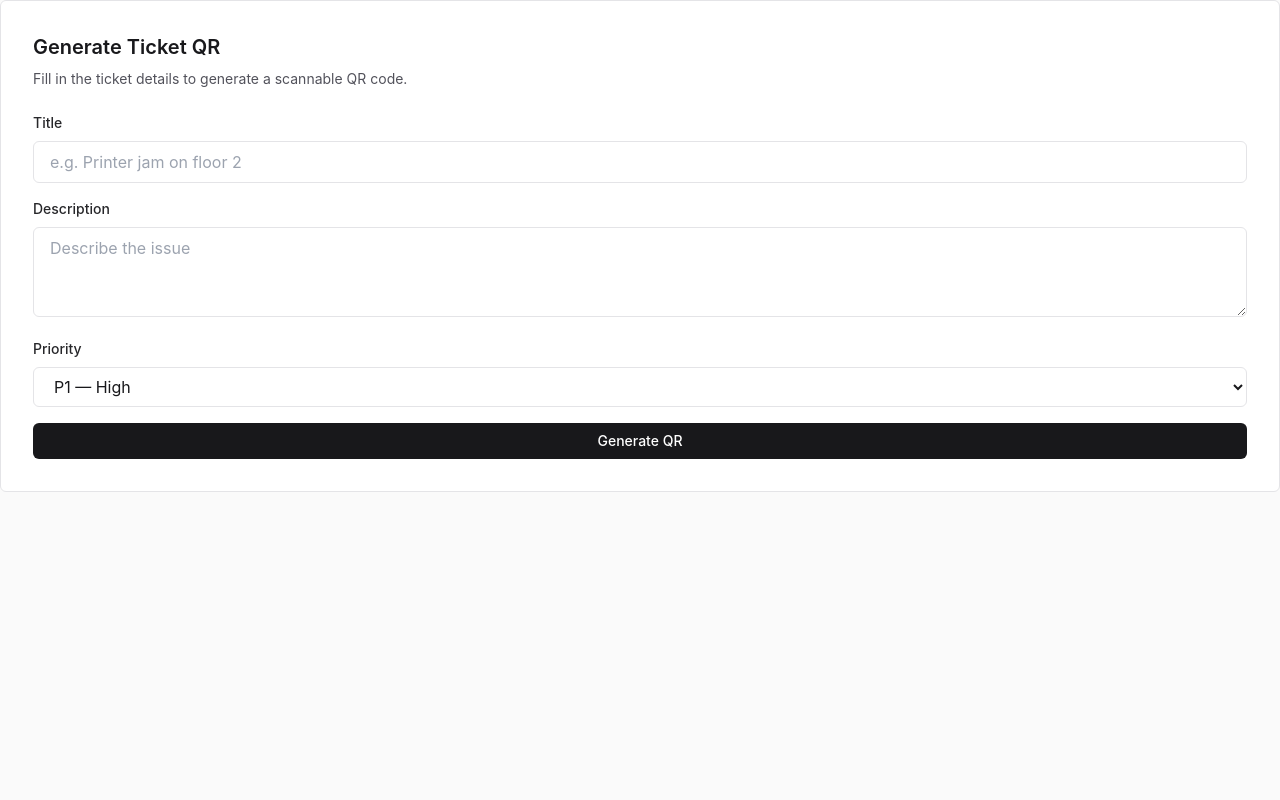
QrGenerator — Unhappy Path › shows loading spinner during async operation (AC-04)
In the field labelled "Title": (640, 162) [33, 141, 1247, 183], type "Printer jam"
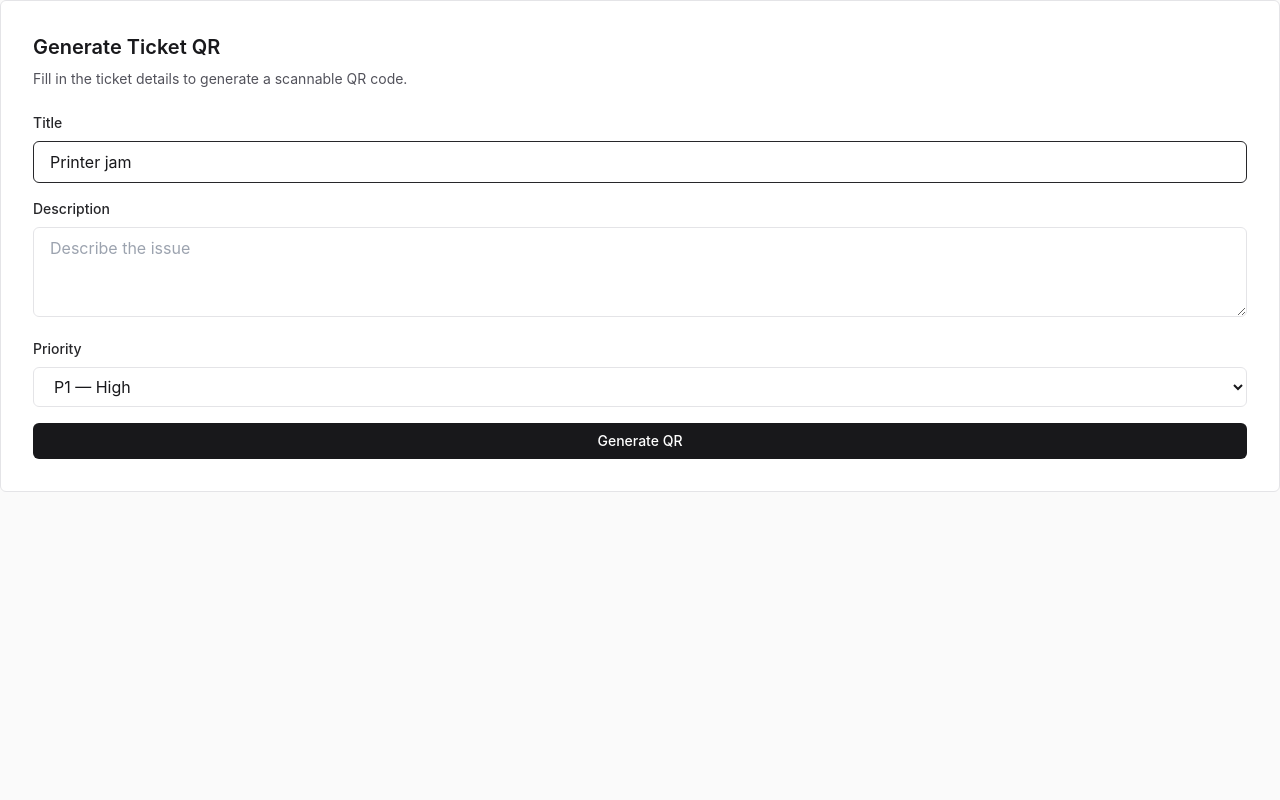
In the text box labelled "Description": (640, 272) [33, 227, 1247, 317], type "HP not responding"
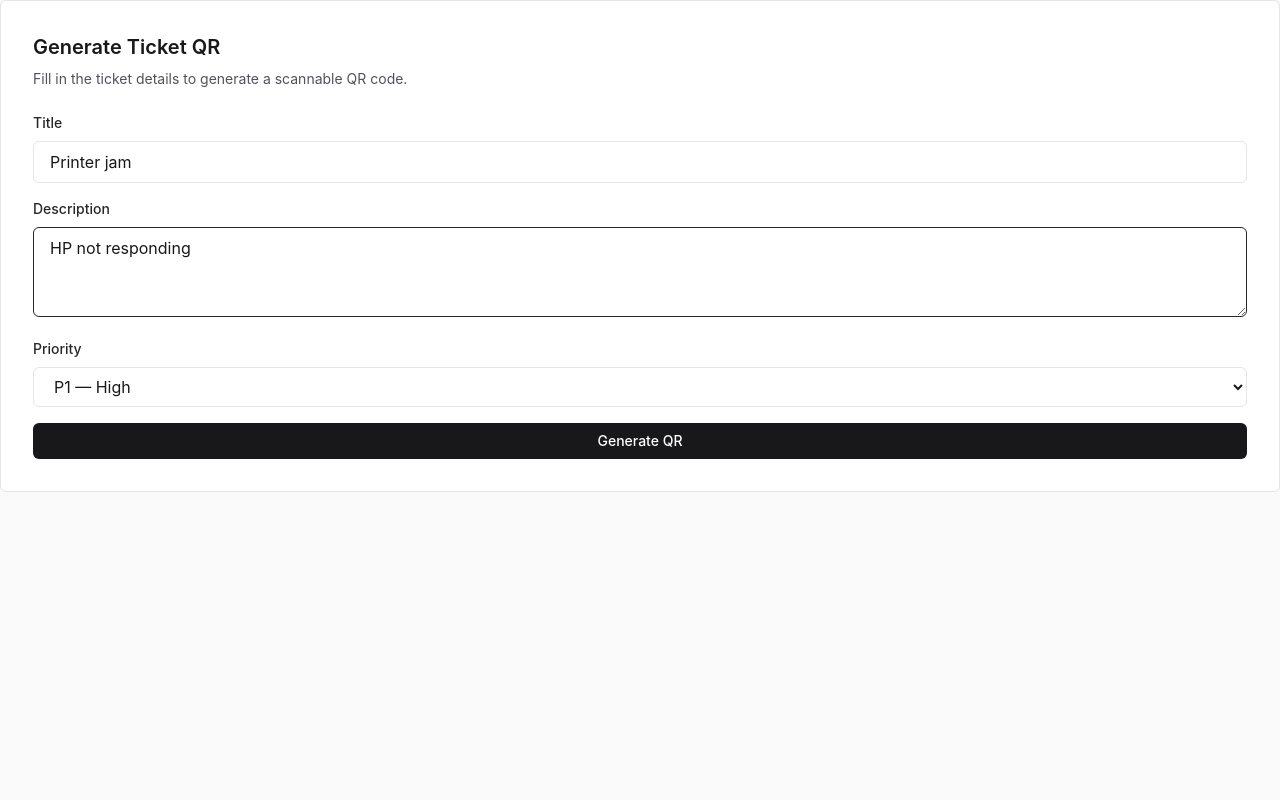
Select "P1 — High" in the dropdown labelled "Priority": (640, 387) [33, 367, 1247, 407]
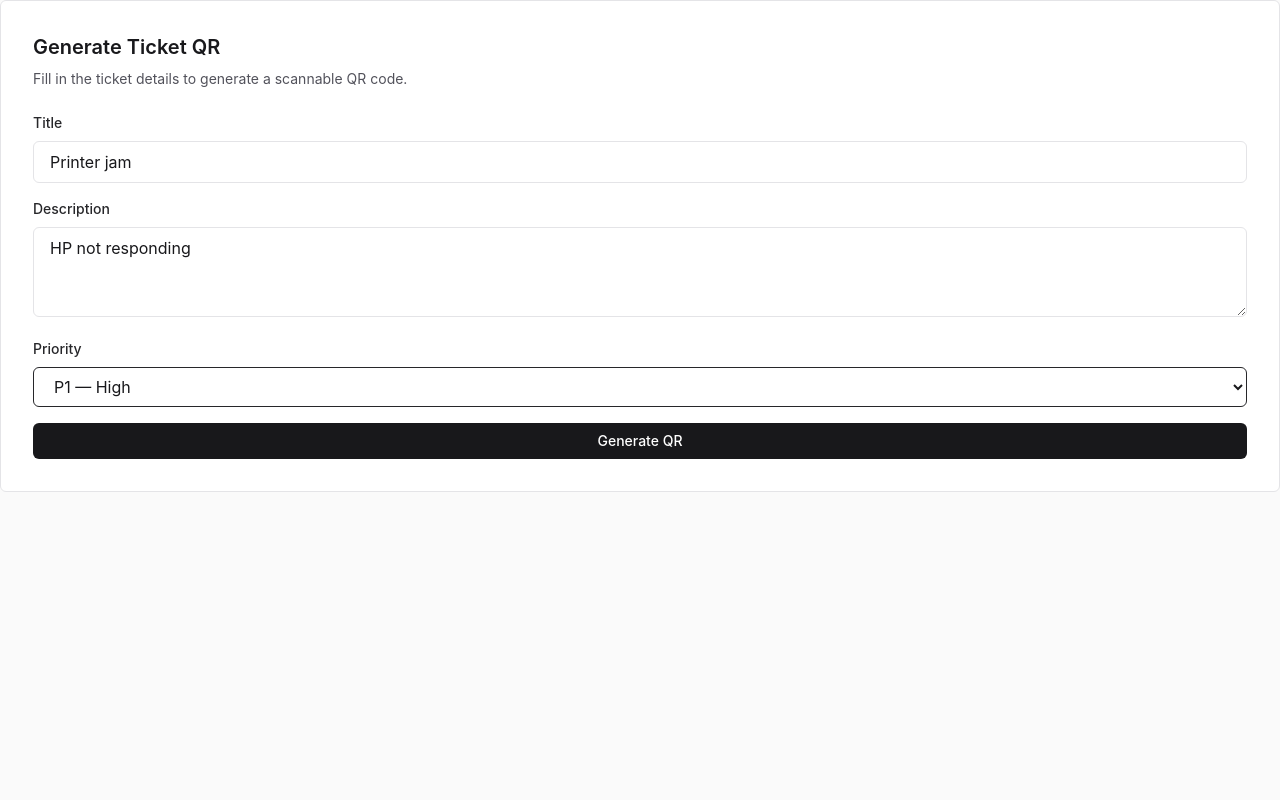
Click the button "Generate QR": (640, 441) [33, 423, 1247, 459]
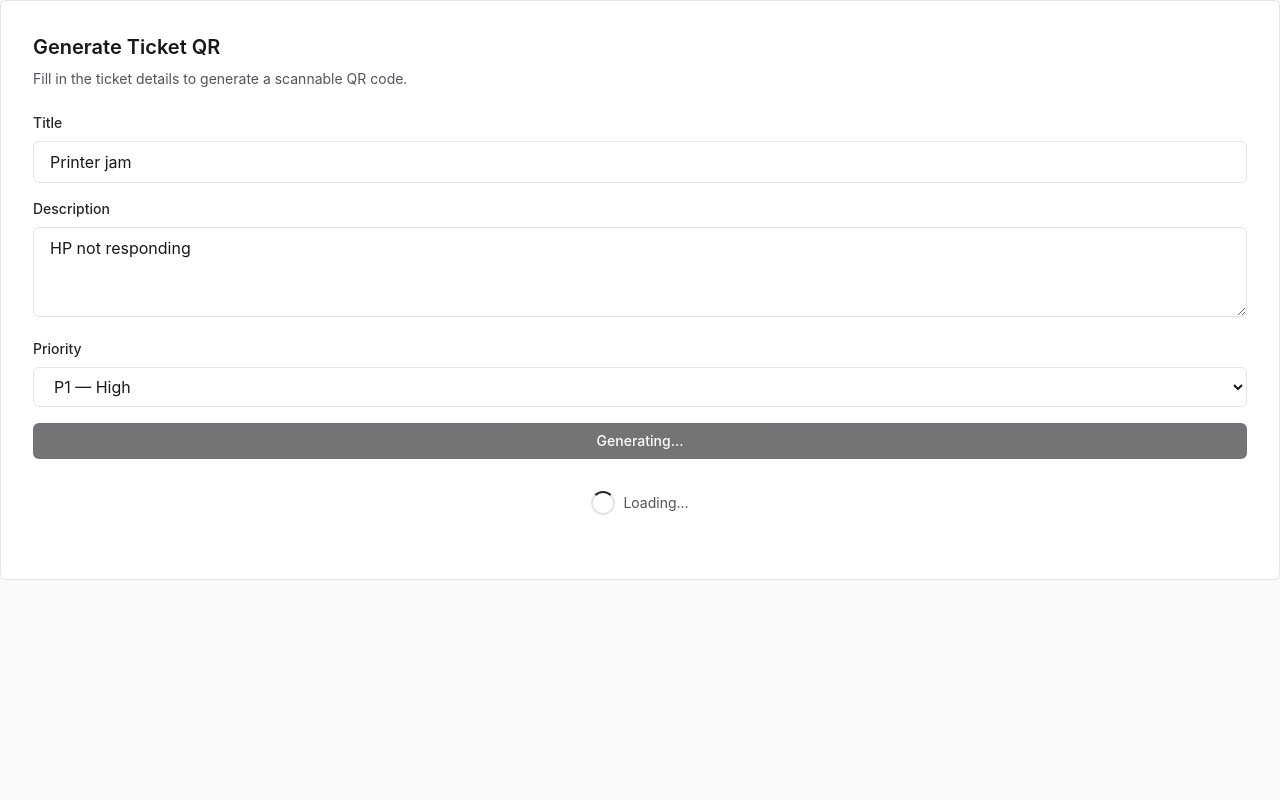
Expected: the message "Loading…" is shown, [591, 491, 689, 515]
